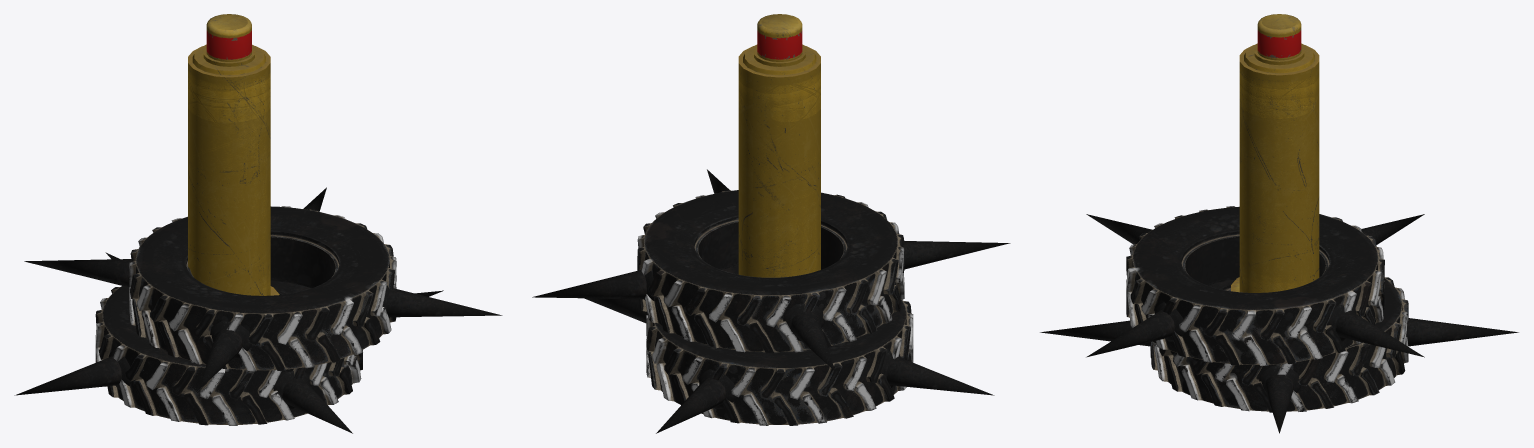
File: Prop_Barrier_Wheel.fbx
3 views of the same model, side by side, from view 1: azimuth 30°, elevation 25°; view 2: azimuth 150°, elevation 25°; view 3: azimuth 270°, elevation 25° (orthographic). The views are drawn at different scales.
Visible parts, largest first — view 1: Truck_Wheel001, Barrier_Yellow, Truck_Wheel; view 2: Truck_Wheel001, Truck_Wheel, Barrier_Yellow; view 3: Truck_Wheel001, Barrier_Yellow, Truck_Wheel.
Part boxes in pixels (box(x1,y1,x2,y2)): Truck_Wheel001: box(24, 187, 502, 389); Barrier_Yellow: box(188, 14, 279, 295); Truck_Wheel: box(14, 252, 443, 433); Truck_Wheel001: box(532, 169, 1010, 370); Truck_Wheel: box(584, 266, 994, 433); Barrier_Yellow: box(738, 14, 820, 277); Truck_Wheel001: box(1086, 206, 1424, 365); Barrier_Yellow: box(1231, 14, 1319, 292); Truck_Wheel: box(1040, 277, 1518, 433).
Bounding box in the file's own units: 90.25 × 72.32 × 90.25.
